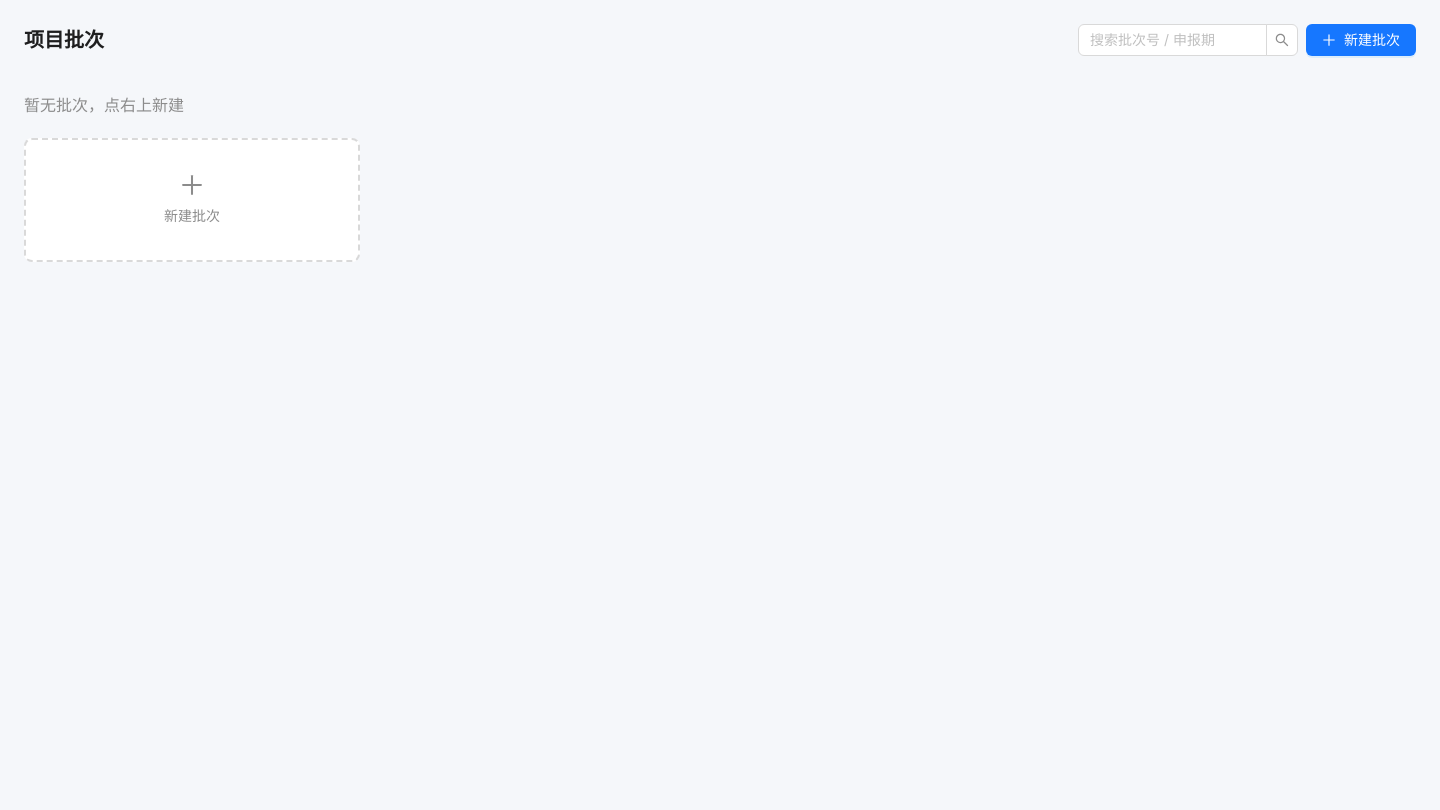
BatchListPage › 点击新建批次按钮 → CreateBatchModal 弹出
# 工具栏的"新建批次"按钮渲染后点击
Click the button "新建批次": click(1361, 40) [1306,24,1416,56]
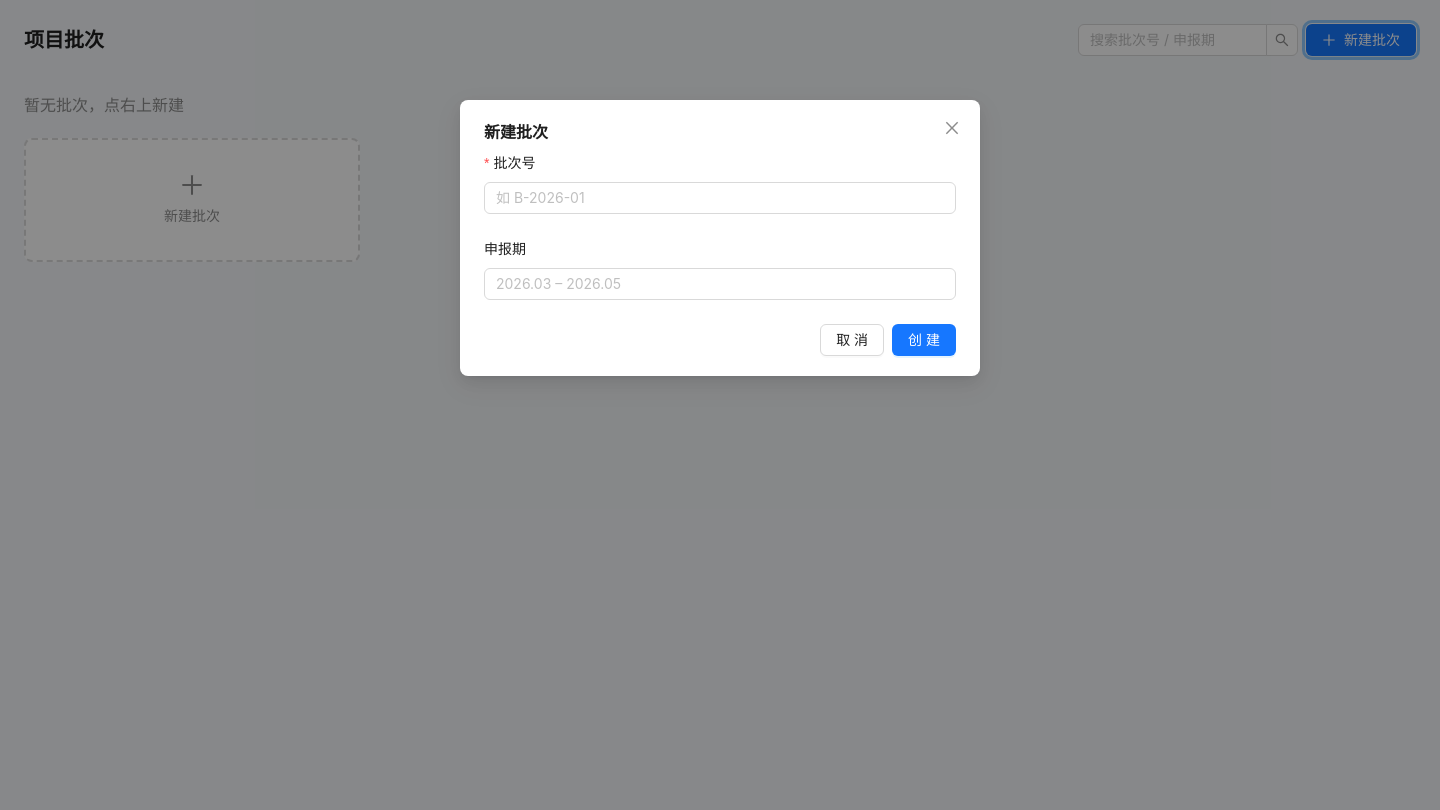
Result: the field labelled "批次号" is shown at [484,182,956,214]
